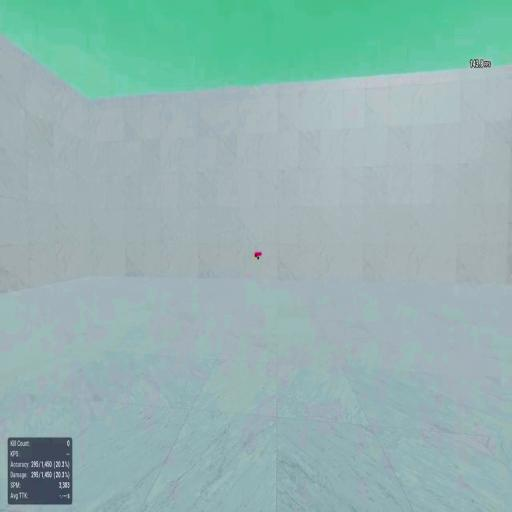Crosshair: (255, 254, 257, 258)
Target: (257, 256, 259, 260)
